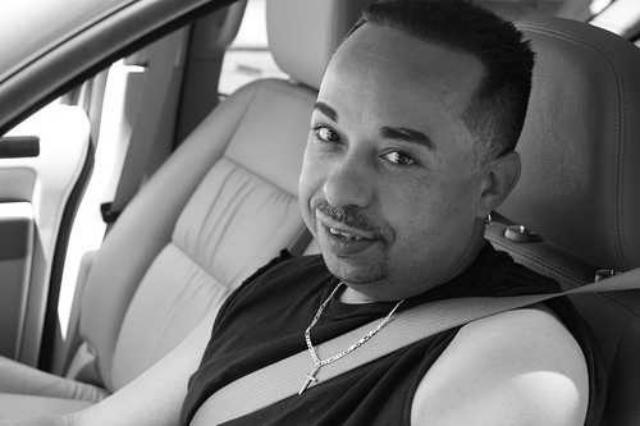SafeDriving: (368, 133, 432, 175), (304, 108, 352, 156)
Seatbelt: (184, 260, 640, 426)
